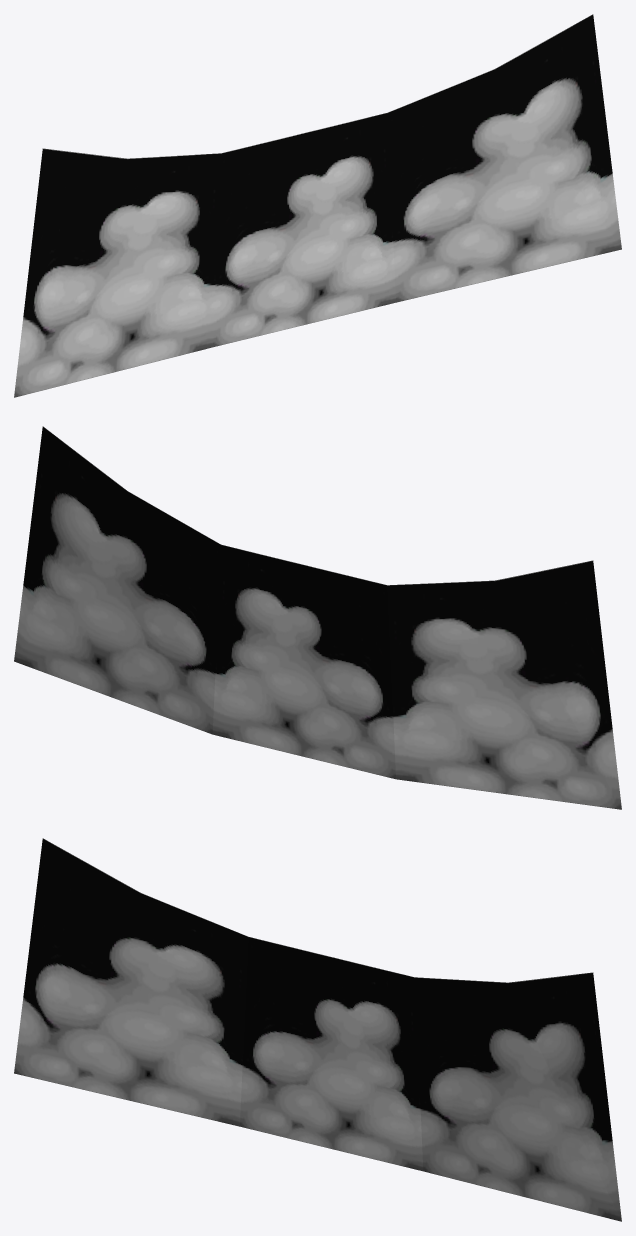
Rendered from bg_cumulonimbus.dae.
The picture shows the model from 3 angles, top to bottom: view 1: azimuth 30°, elevation 25°; view 2: azimuth 150°, elevation 25°; view 3: azimuth 330°, elevation 25°; orthographic projection.
Visible parts, largest first — view 1: bg_cumulonimbus; view 2: bg_cumulonimbus; view 3: bg_cumulonimbus.
Part boxes in pixels (bbox=[...]): bg_cumulonimbus: bbox=[14, 14, 621, 397]; bg_cumulonimbus: bbox=[14, 426, 621, 809]; bg_cumulonimbus: bbox=[14, 838, 621, 1221].
Bounding box in the file's own units: 1591 × 634 × 61.71.
1 material, 1 textured.
